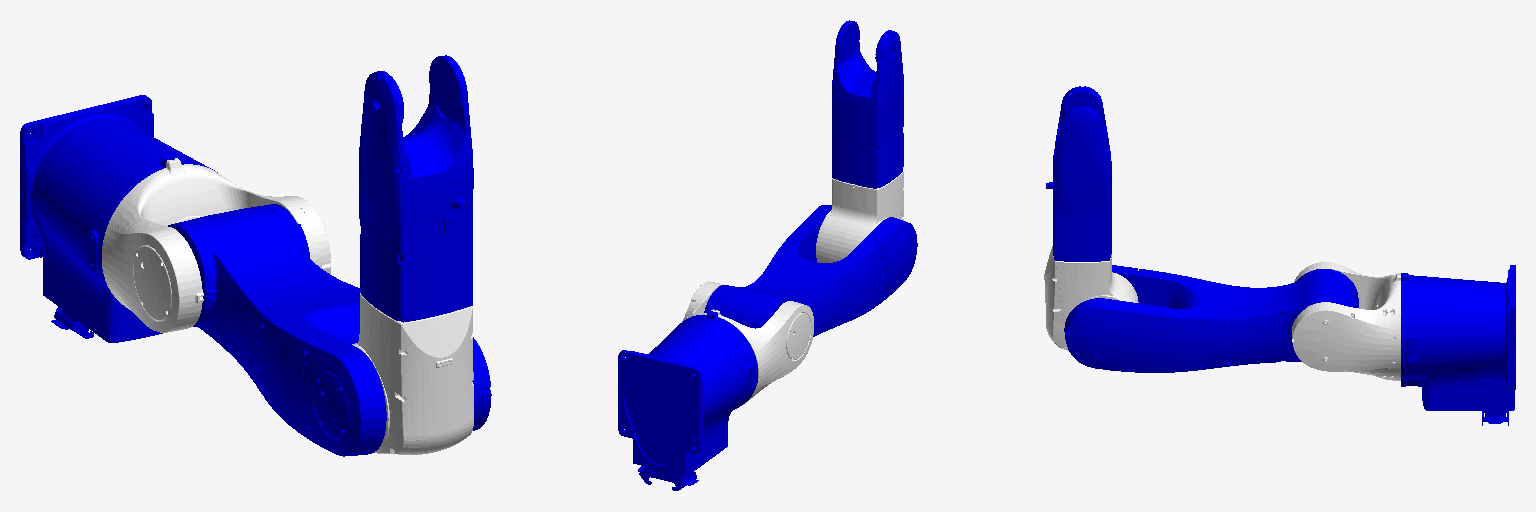
URDF robot description (delta_urdf_v2):
<?xml version="1.0" encoding="utf-8"?>
<!-- This URDF was automatically created by SolidWorks to URDF Exporter! Originally created by [author] ([email redacted]) 
     Commit Version: 1.5.1-0-g916b5db  Build Version: 1.5.7152.31018
     For more information, please see http://wiki.ros.org/sw_urdf_exporter -->
<robot
  name="delta_urdf_v2">
<link name="base">
   </link>
  <link
    name="base_link">
    <inertial>
      <origin
        xyz="-9.3071E-06 -0.1093 -0.023759"
        rpy="0 0 0" />
      <mass
        value="8.2109" />
      <inertia
        ixx="0.065683"
        ixy="5.0701E-05"
        ixz="-0.00010816"
        iyy="0.051477"
        iyz="0.0035599"
        izz="0.050867" />
    </inertial>
    <visual>
      <origin
        xyz="0 0 0"
        rpy="0 0 0" />
      <geometry>
        <mesh
          filename="package://arm_description/meshes/base_link.STL" />
      </geometry>
      <material
        name="">
        <color
          rgba="0 0 1 1" />
      </material>
    </visual>
    <collision>
      <origin
        xyz="0 0 0"
        rpy="0 0 0" />
      <geometry>
        <mesh
          filename="package://arm_description/meshes/base_link.STL" />
      </geometry>
    </collision>
  </link>
  <joint
    name="dummy_joint"
    type="fixed">
    <origin
      xyz="0 0 0"
      rpy="1.57079632679 0 0" />
    <parent
      link="base_link" />
    <child
      link="base" />
    <axis
      xyz="0 0 1" />
  </joint>
  <link
    name="shoulder_link">
    <inertial>
      <origin
        xyz="-0.0078508 0.00014135 0.065441"
        rpy="0 0 0" />
      <mass
        value="2.9013" />
      <inertia
        ixx="0.014708"
        ixy="-0.00069611"
        ixz="0.0014618"
        iyy="0.014376"
        iyz="0.0035856"
        izz="0.011244" />
    </inertial>
    <visual>
      <origin
        xyz="0 0 0"
        rpy="0 0 0" />
      <geometry>
        <mesh
          filename="package://arm_description/meshes/shoulder_link.STL" />
      </geometry>
      <material
        name="">
        <color
          rgba="1 1 1 1" />
      </material>
    </visual>
    <collision>
      <origin
        xyz="0 0 0"
        rpy="0 0 0" />
      <geometry>
        <mesh
          filename="package://arm_description/meshes/shoulder_link.STL" />
      </geometry>
    </collision>
  </link>
  <joint
    name="shoulder"
    type="revolute">
    <origin
      xyz="0 -0.23 0"
      rpy="1.5708 1.5708 0" />
    <parent
      link="base_link" />
    <child
      link="shoulder_link" />
    <axis
      xyz="0 0 1" />
    <limit
      lower="-2.9670597284"
      upper="2.9670597284"
      effort="100"
      velocity="6.4577182324" />
  </joint>
  <link
    name="elbow_link">
    <inertial>
      <origin
        xyz="-0.11726 -0.012276 0.19416"
        rpy="0 0 0" />
      <mass
        value="8.5041" />
      <inertia
        ixx="0.15281"
        ixy="0.0001706"
        ixz="0.018394"
        iyy="0.15451"
        iyz="0.0013276"
        izz="0.022252" />
    </inertial>
    <visual>
      <origin
        xyz="0 0 0"
        rpy="0 0 0" />
      <geometry>
        <mesh
          filename="package://arm_description/meshes/elbow_link.STL" />
      </geometry>
      <material
        name="">
        <color
          rgba="0 0 1 1" />
      </material>
    </visual>
    <collision>
      <origin
        xyz="0 0 0"
        rpy="0 0 0" />
      <geometry>
        <mesh
          filename="package://arm_description/meshes/elbow_link.STL" />
      </geometry>
    </collision>
  </link>
  <joint
    name="elbow"
    type="revolute">
    <origin
      xyz="-0.025 0.11756 0.14"
      rpy="0 0 1.5708" />
    <parent
      link="shoulder_link" />
    <child
      link="elbow_link" />
    <axis
      xyz="-0.99931 0.035302 -0.011772" />
    <limit
      lower="-1.8325957146"
      upper="2.3561944902"
      effort="100"
      velocity="4.5378560552" />
  </joint>
  <link
    name="wrist1_link">
    <inertial>
      <origin
        xyz="0.026153 -0.032487 -3.1699E-06"
        rpy="3.14159265358979 0 0" />
      <mass
        value="3.57" />
      <inertia
        ixx="0.015611"
        ixy="0.0024596"
        ixz="-2.2157E-07"
        iyy="0.0085149"
        iyz="1.2047E-06"
        izz="0.016453" />
    </inertial>
    <visual>
      <origin
        xyz="0 0 0"
        rpy="3.14159265358979 0 0" />
      <geometry>
        <mesh
          filename="package://arm_description/meshes/wrist1_link.STL" />
      </geometry>
      <material
        name="">
        <color
          rgba="1 1 1 1" />
      </material>
    </visual>
    <collision>
      <origin
        xyz="0 0 0"
        rpy="3.14159265358979 0 0" />
      <geometry>
        <mesh
          filename="package://arm_description/meshes/wrist1_link.STL" />
      </geometry>
    </collision>
  </link>
  <joint
    name="wrist1"
    type="revolute">
    <origin
      xyz="-0.11756 0 0.44"
      rpy="0 -1.5708 0" />
    <parent
      link="elbow_link" />
    <child
      link="wrist1_link" />
    <axis
      xyz="-0.011772 -0.035302 -0.99931" />
    <limit
      lower="-3.5779249666"
      upper="1.1344640138"
      effort="100"
      velocity="7.1558499332" />
  </joint>
  <link
    name="wrist2_link">
    <inertial>
      <origin
        xyz="0.16256 -9.3891E-06 -8.8884E-05"
        rpy="0 0 0" />
      <mass
        value="3.2244" />
      <inertia
        ixx="0.0048804"
        ixy="4.1602E-06"
        ixz="-0.00041865"
        iyy="0.0081183"
        iyz="-1.789E-06"
        izz="0.0094686" />
    </inertial>
    <visual>
      <origin
        xyz="0 0 0"
        rpy="0 0 0" />
      <geometry>
        <mesh
          filename="package://arm_description/meshes/wrist2_link.STL" />
      </geometry>
      <material
        name="">
        <color
          rgba="0 0 1 1" />
      </material>
    </visual>
    <collision>
      <origin
        xyz="0 0 0"
        rpy="0 0 0" />
      <geometry>
        <mesh
          filename="package://arm_description/meshes/wrist2_link.STL" />
      </geometry>
    </collision>
  </link>
  <joint
    name="wrist2"
    type="revolute">
    <origin
      xyz="0.0400000444661043 0.435000000020256 0"
      rpy="0 0 -1.5707963267949" />
    <parent
      link="wrist1_link" />
    <child
      link="wrist2_link" />
    <axis
      xyz="-1 0 0" />
    <limit
      lower="-3.3161255788"
      upper="3.3161255788"
      effort="100"
      velocity="9.599310886" />
  </joint>
  <link
    name="wrist3_link">
    <inertial>
      <origin
        xyz="-3.4357E-05 0.0072747 -0.047367"
        rpy="0 0 0" />
      <mass
        value="0.22106" />
      <inertia
        ixx="0.00017763"
        ixy="1.6719E-07"
        ixz="8.793E-09"
        iyy="0.00017949"
        iyz="-1.2119E-05"
        izz="0.00014461" />
    </inertial>
    <visual>
      <origin
        xyz="0 0 0"
        rpy="0 0 0" />
      <geometry>
        <mesh
          filename="package://arm_description/meshes/wrist3_link.STL" />
      </geometry>
      <material
        name="">
        <color
          rgba="1 1 1 1" />
      </material>
    </visual>
    <collision>
      <origin
        xyz="0 0 0"
        rpy="0 0 0" />
      <geometry>
        <mesh
          filename="package://arm_description/meshes/wrist3_link.STL" />
      </geometry>
    </collision>
  </link>
  <joint
    name="wrist3"
    type="revolute">
    <origin
      xyz="0.0330000000202569 0 0"
      rpy="1.5707963267949 0 1.5707963267949" />
    <parent
      link="wrist2_link" />
    <child
      link="wrist3_link" />
    <axis
      xyz="0 -1 0" />
    <limit
      lower="2.0943951024"
      upper="-2.0943951024"
      effort="9.5120444234"
      velocity="7" />
  </joint>
  <link
    name="wrist4_link">
    <inertial>
      <origin
        xyz="-0.0032297 7.0268E-05 -9.16E-05"
        rpy="0 0 0" />
      <mass
        value="0.046951" />
      <inertia
        ixx="2.5829E-05"
        ixy="2.1441E-09"
        ixz="-2.7949E-09"
        iyy="1.3329E-05"
        iyz="-8.2641E-08"
        izz="1.3373E-05" />
    </inertial>
    <visual>
      <origin
        xyz="0 0 0"
        rpy="0 0 0" />
      <geometry>
        <mesh
          filename="package://arm_description/meshes/wrist4_link.STL" />
      </geometry>
      <material
        name="">
        <color
          rgba="0 0 1 1" />
      </material>
    </visual>
    <collision>
      <origin
        xyz="0 0 0"
        rpy="0 0 0" />
      <geometry>
        <mesh
          filename="package://arm_description/meshes/wrist4_link.STL" />
      </geometry>
    </collision>
  </link>
  <joint
    name="wrist4"
    type="revolute">
    <origin
      xyz="0 0 -0.0984999999999989"
      rpy="1.4398966303838 -1.5707963267949 0" />
    <parent
      link="wrist3_link" />
    <child
      link="wrist4_link" />
    <axis
      xyz="1 0 0" />
    <limit
      lower="-6.2831853072"
      upper="6.2831853072"
      effort="100"
      velocity="17.45329252" />
  </joint>
</robot>

--- Render facts (derived) ---
3 views of the same robot in one strip: view 1: azimuth 30°, elevation 25°; view 2: azimuth 150°, elevation 25°; view 3: azimuth 270°, elevation 25° (orthographic).
Robot: delta_urdf_v2 — 8 links, 7 joints (6 revolute, 1 fixed); root link base_link; default pose: all joints at 0.
Visible links, largest first — view 1: elbow_link, wrist2_link, base_link, shoulder_link, wrist1_link; view 2: base_link, elbow_link, wrist2_link, shoulder_link, wrist1_link; view 3: elbow_link, base_link, wrist2_link, shoulder_link, wrist1_link.
Boxes of the visible links, box(x1,y1,x2,y2) form: elbow_link: box(168, 204, 491, 456); wrist2_link: box(359, 55, 473, 322); base_link: box(20, 95, 217, 342); shoulder_link: box(102, 158, 330, 332); wrist1_link: box(352, 293, 473, 454); base_link: box(618, 311, 757, 490); elbow_link: box(704, 205, 917, 336); wrist2_link: box(832, 20, 903, 188); shoulder_link: box(682, 281, 813, 404); wrist1_link: box(816, 171, 903, 262); elbow_link: box(1064, 265, 1358, 372); base_link: box(1401, 265, 1515, 425); wrist2_link: box(1046, 86, 1111, 261); shoulder_link: box(1292, 262, 1400, 380); wrist1_link: box(1044, 246, 1138, 350).
Size in the robot's own frame: 0.235 by 0.9284 by 0.699 metres.
5 mesh visuals loaded from 7 distinct referenced files (5 binary STL); not drawn: 2 (reference not matched to a file when rendering).